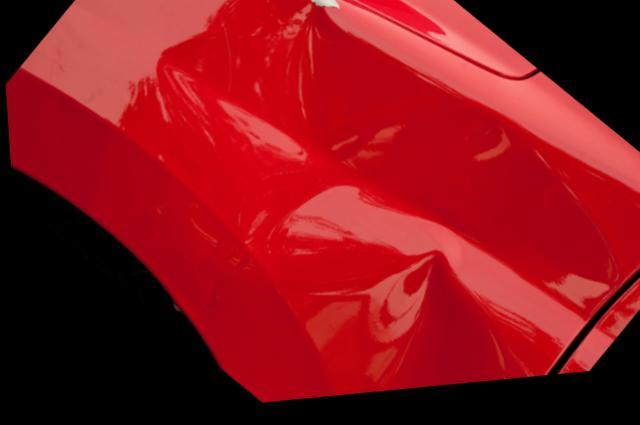dent: (126, 0, 614, 331), (286, 260, 501, 402)
